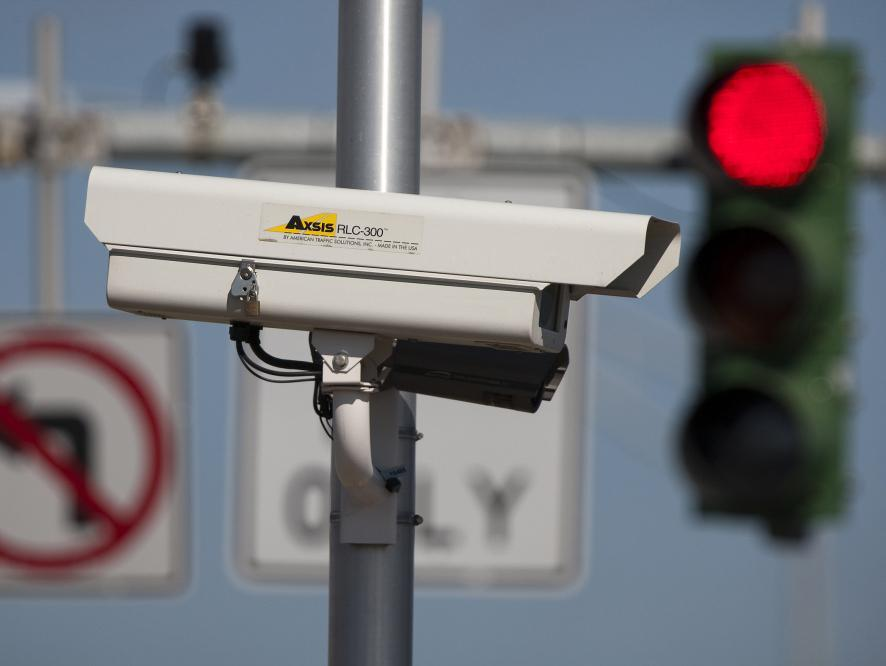Monitor: (51, 145, 723, 420)
